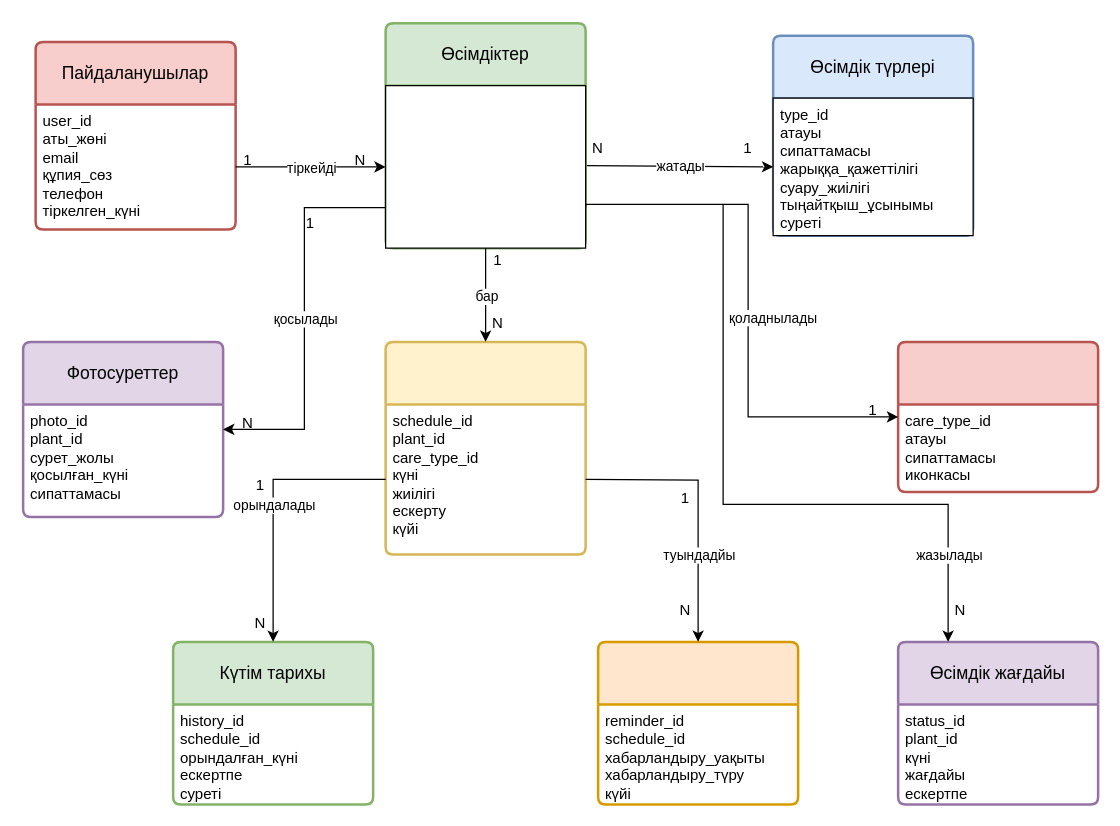
Some shapes in this 1120 by 826 pixel diagram are drawn without their labels. Each missing label, with the box of its shape:
plant_id user_id type_id атауы сипаттамасы орналасқан_жері суреті тіркелген_күні: (384, 84, 586, 248)
Еске салғыштар: (596, 640, 799, 805)
Күтім кестесі: (384, 340, 586, 555)
Күтім түрлері: (896, 340, 1099, 492)
